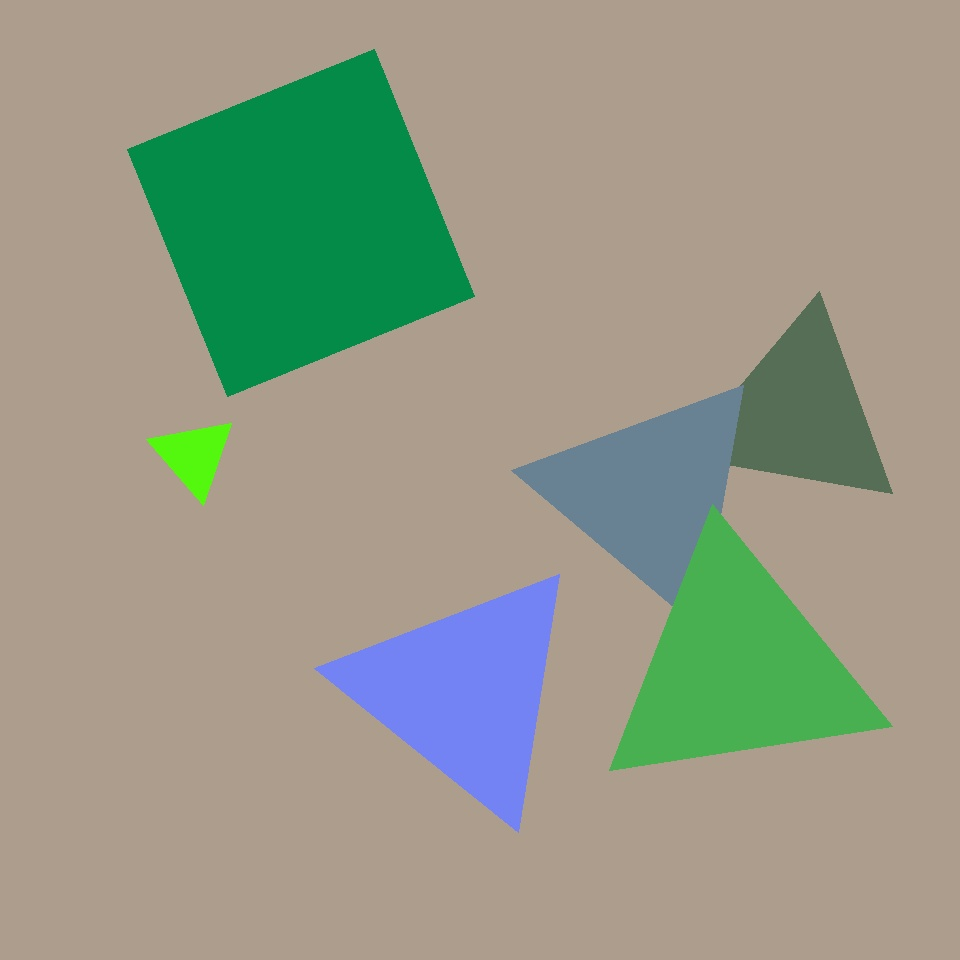circle: (596, 534, 880, 800), (296, 201, 564, 464), (342, 563, 586, 821), (536, 373, 768, 617), (693, 313, 904, 515), (152, 415, 236, 497)
square: (128, 50, 474, 396), (72, 249, 373, 550), (506, 537, 750, 780), (335, 487, 514, 665), (408, 500, 556, 648)
